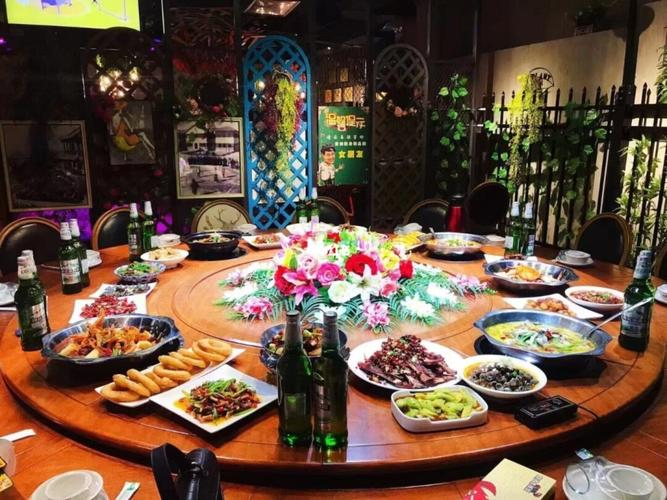food: (42, 305, 178, 382), (482, 300, 606, 371), (153, 361, 267, 434), (350, 327, 463, 395), (392, 377, 485, 434), (460, 346, 541, 404), (487, 250, 563, 293), (566, 281, 624, 312)
